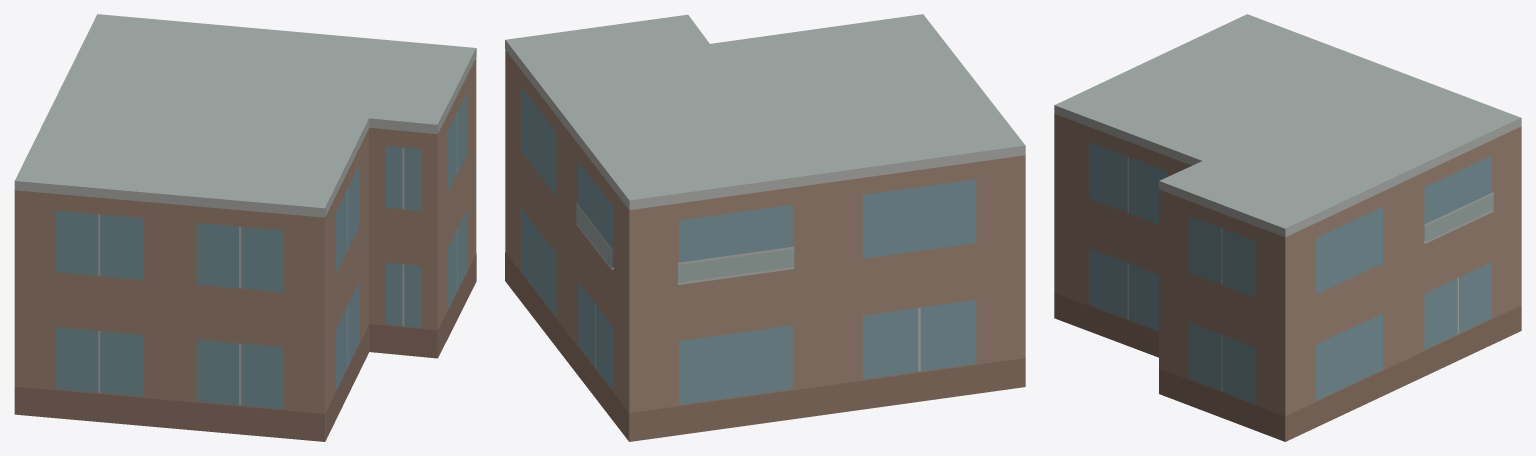
The model's file is survey-upis-32712524.glb.
The picture shows the model from 3 angles, left to right: view 1: azimuth 30°, elevation 25°; view 2: azimuth 150°, elevation 25°; view 3: azimuth 270°, elevation 25°; orthographic projection. The views are drawn at different scales.
Visible parts, largest first — view 1: survey-upis-32712524.tmp; view 2: survey-upis-32712524.tmp; view 3: survey-upis-32712524.tmp.
Part boxes in pixels (box(x1,y1,x2,y2)): survey-upis-32712524.tmp: box(14, 14, 476, 441); survey-upis-32712524.tmp: box(505, 14, 1025, 441); survey-upis-32712524.tmp: box(1054, 14, 1521, 441).
Bounding box in the file's own units: 13.2 × 6.1 × 12.13.
